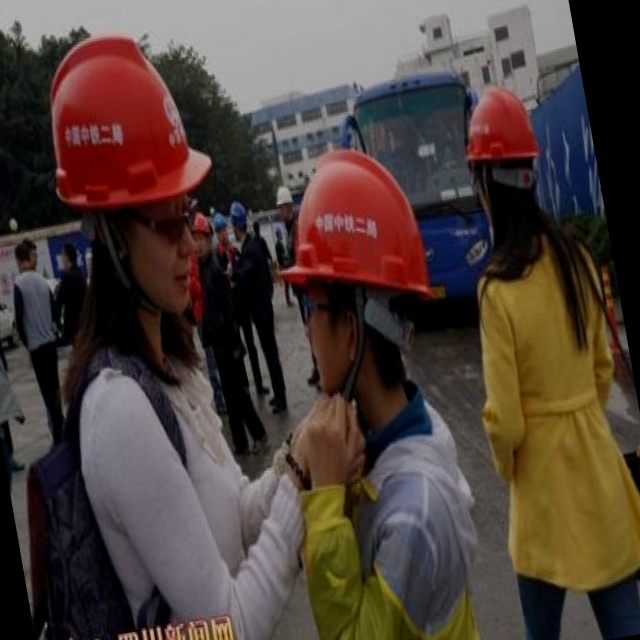Con_Casco: (40, 22, 222, 333), (270, 142, 443, 401)
